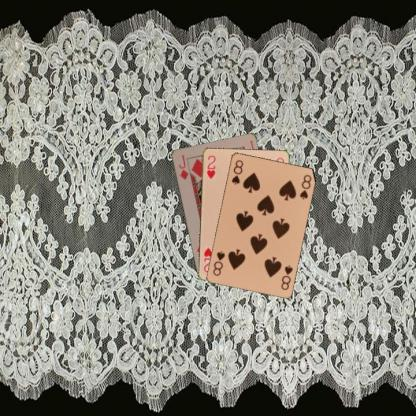2h: (204, 152, 217, 181)
8s: (278, 262, 294, 292), (229, 157, 244, 186)
Jd: (176, 152, 190, 181)
